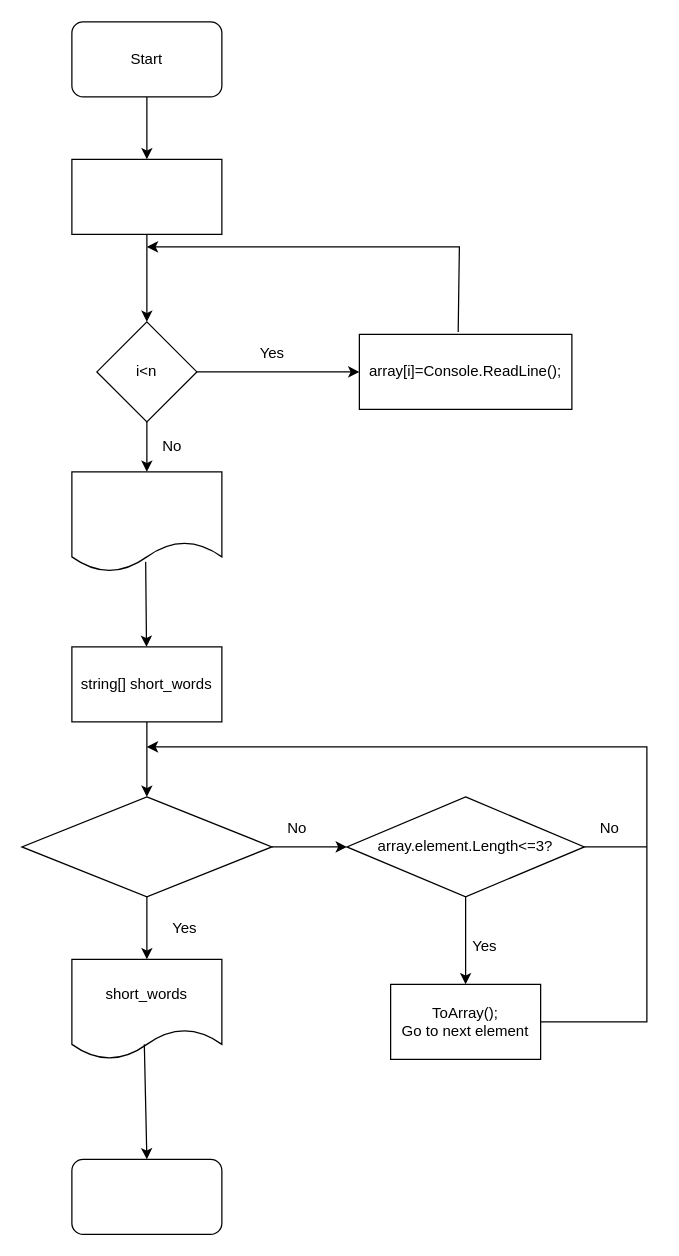
This 679x1256 diagram has some shape labels left out. Here are the shapes that lost their labels. From the top down, the centre of each, then its label:
At (x=146, y=196): "int n i = 0 string [] array".
At (x=146, y=521): "array".
At (x=146, y=846): "array.element was last?".
At (x=146, y=1196): "End".
